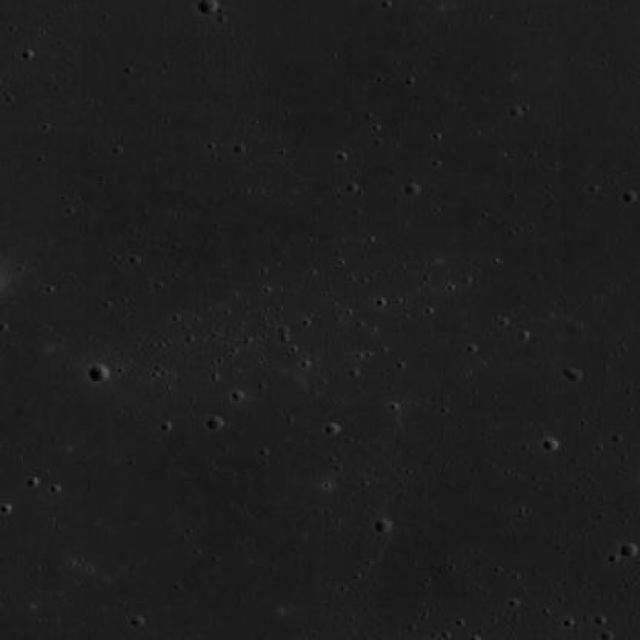crater: (91, 366, 111, 382), (198, 0, 218, 15), (374, 518, 392, 534)
